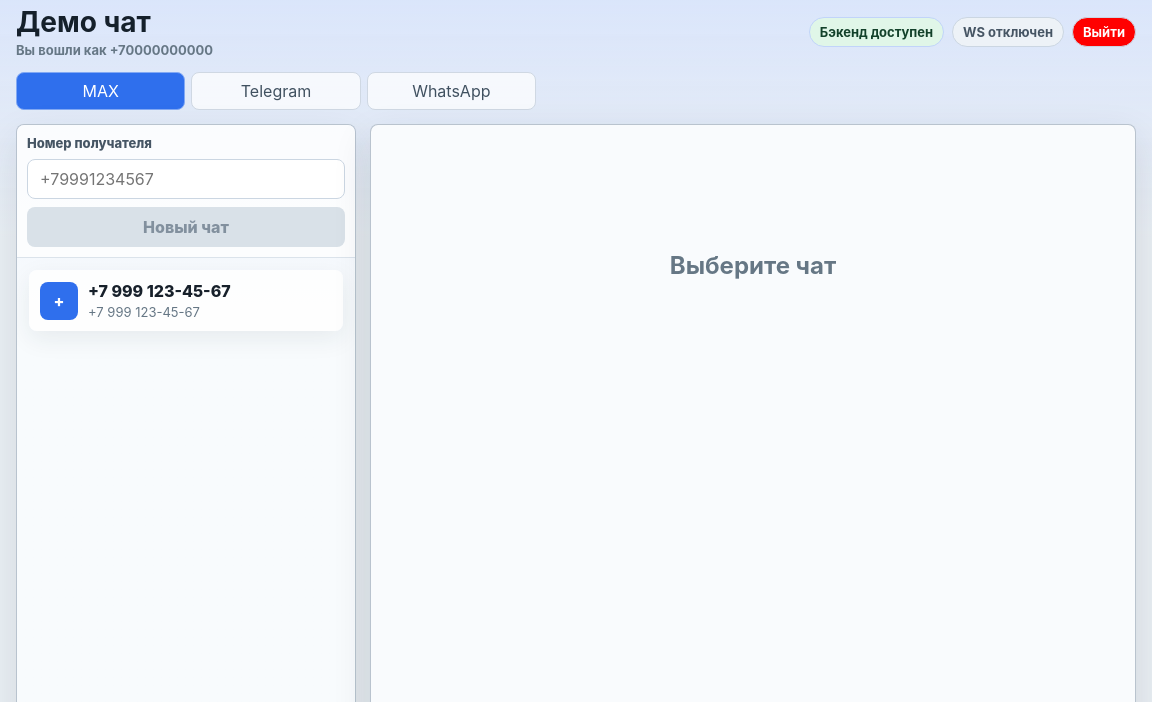
ChatWorkspace › sends only the outgoing message from the composer
Click the button "+ +7 999 123-45-67 +7 999 123-45-67".
click(186, 301)  # box [29, 270, 343, 331]
(page scrolled)
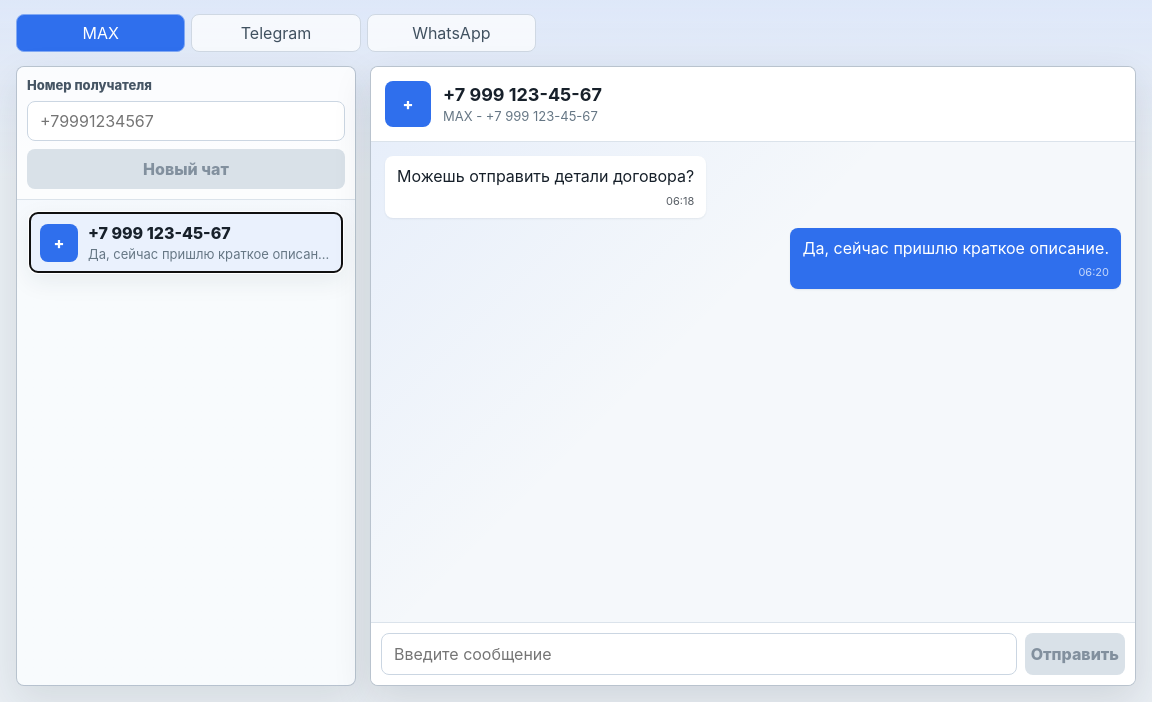
Type "Ручной ответ" into the field named "Текст сообщения".
click(699, 654); type("Ручной ответ")  # box [381, 633, 1017, 675]
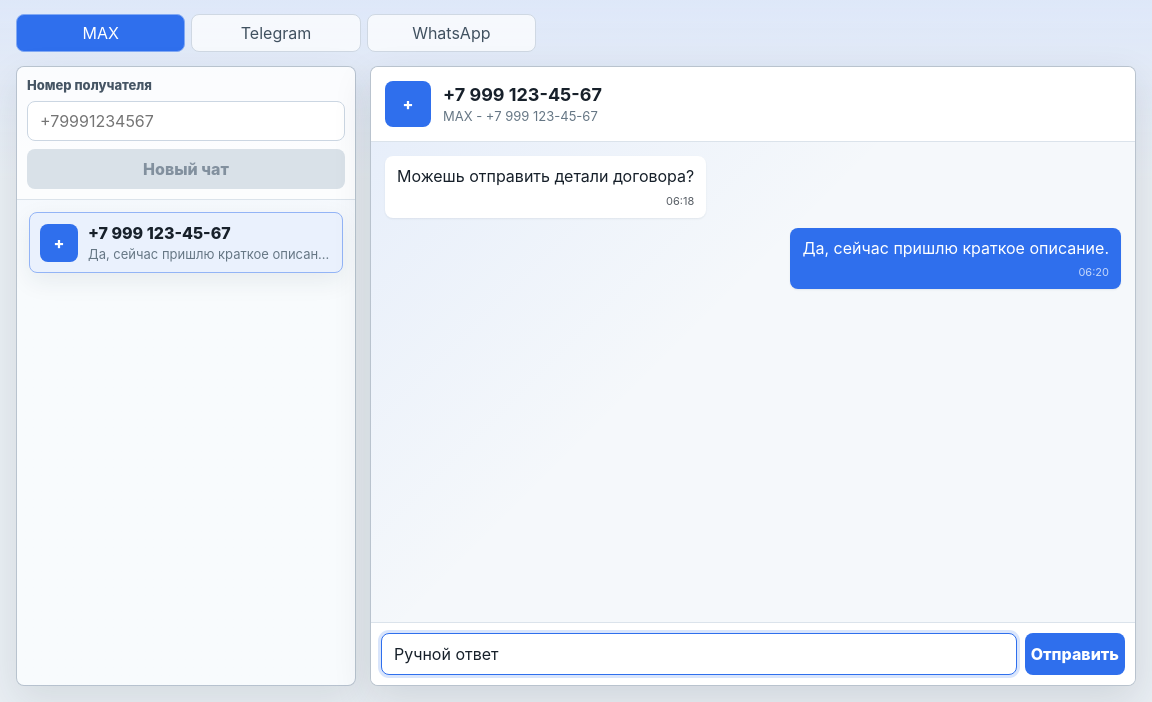
Click the button "Отправить".
click(1075, 654)  # box [1025, 633, 1125, 675]
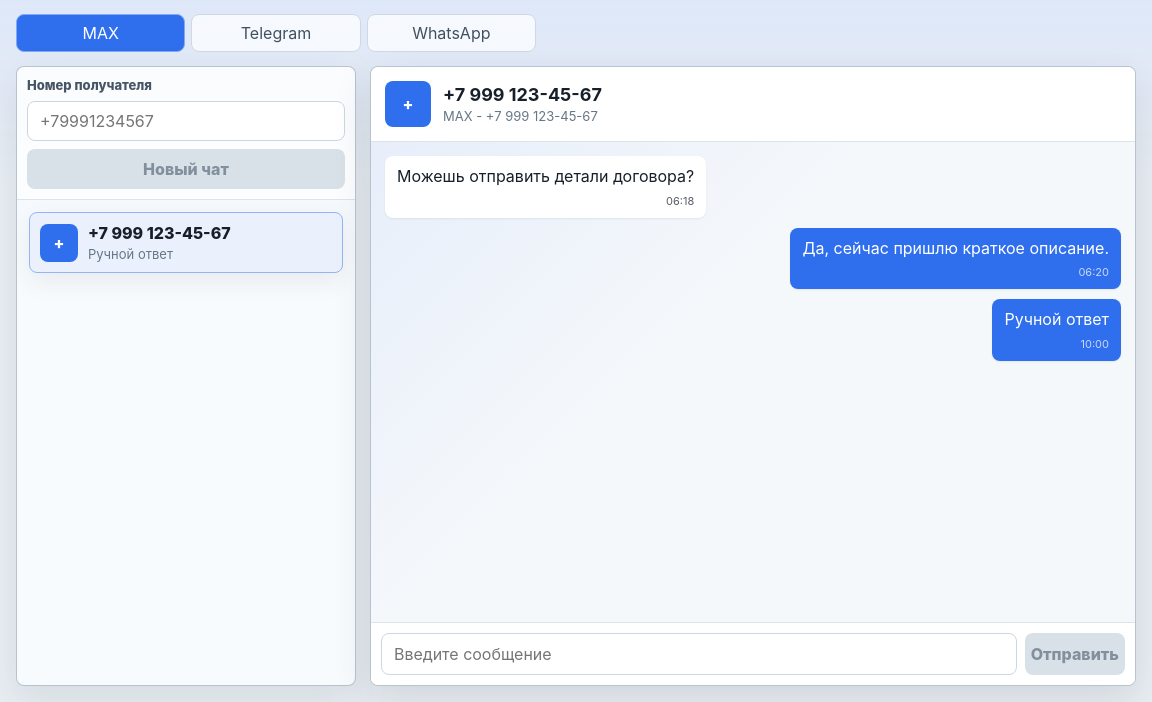
Expected: the heading "+7 999 123-45-67" is shown, [443, 84, 602, 105]
Expected: the text "Ручной ответ" below "06:20" is shown, [1004, 309, 1109, 329]
Expected: the field named "Текст сообщения" is empty, [381, 633, 1017, 675]
